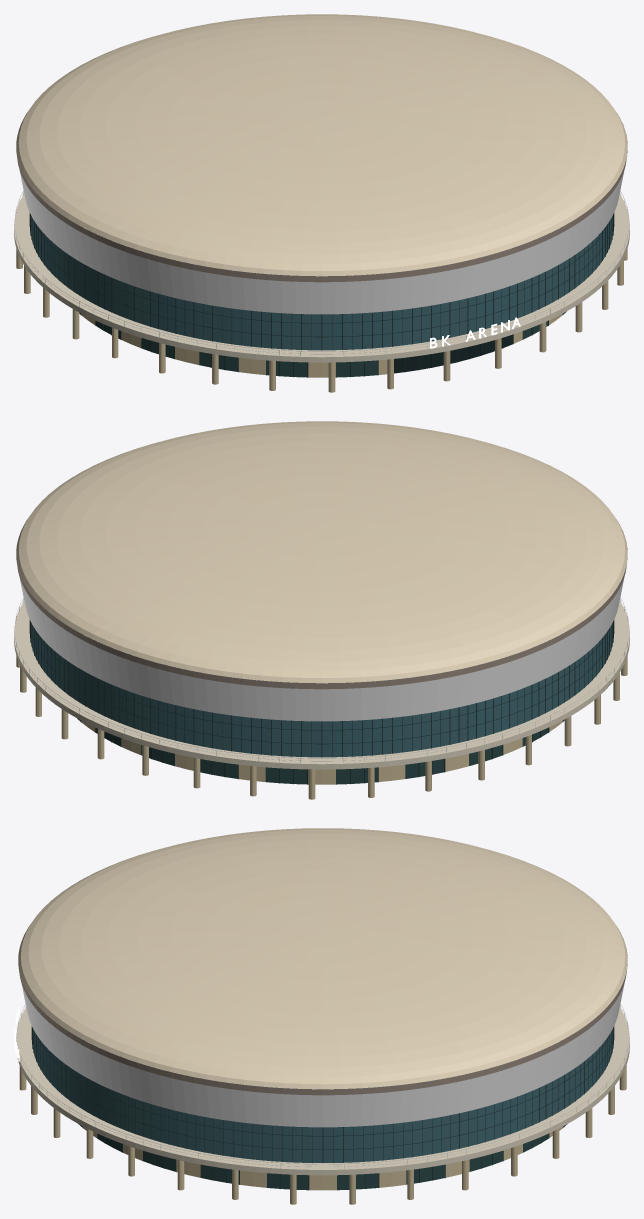
Rendered from exterior.glb.
The picture shows the model from 3 angles, top to bottom: view 1: azimuth 30°, elevation 25°; view 2: azimuth 150°, elevation 25°; view 3: azimuth 270°, elevation 25°; orthographic projection.
Parts seen in each view (by area): view 1: Ext_Roof, Exterior; view 2: Ext_Roof, Exterior; view 3: Ext_Roof, Exterior.
Boxes of the visible parts, left/top/right/bottom form: Ext_Roof: left=16, top=14, right=627, bottom=276; Exterior: left=14, top=117, right=629, bottom=392; Ext_Roof: left=16, top=421, right=627, bottom=683; Exterior: left=14, top=524, right=629, bottom=799; Ext_Roof: left=18, top=828, right=627, bottom=1089; Exterior: left=16, top=930, right=629, bottom=1204.
Bounding box in the file's own units: 114 × 30 × 114.
